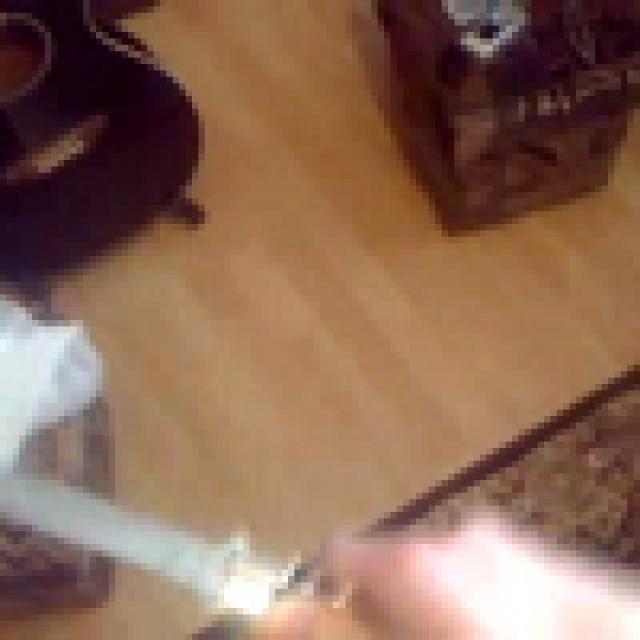Weapons: (0, 467, 369, 618)
